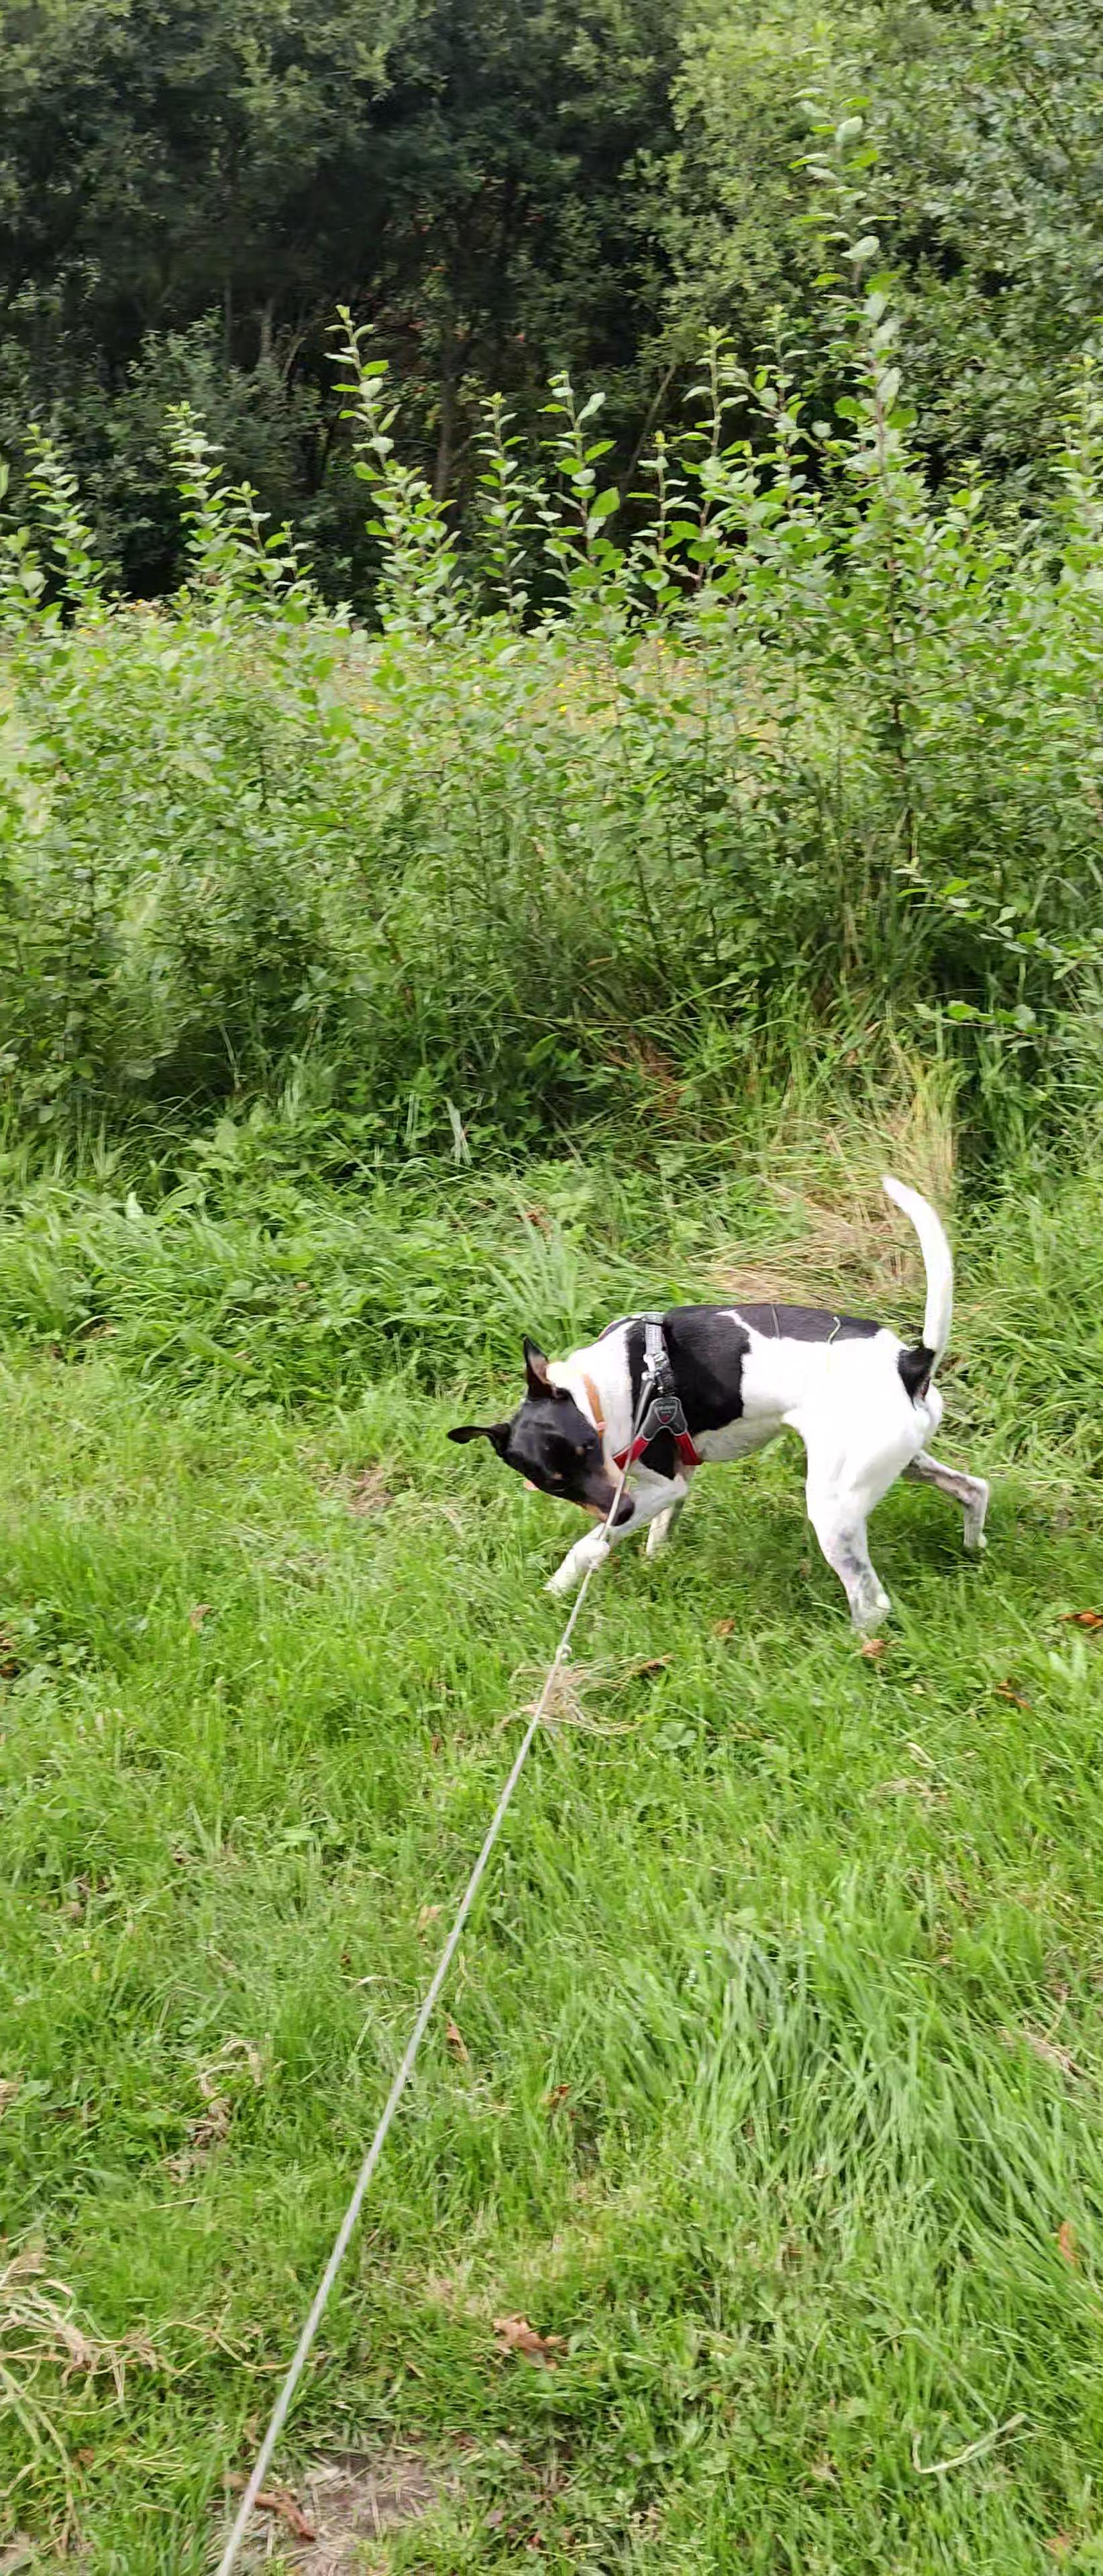Dog: (442, 1168, 991, 1641)
